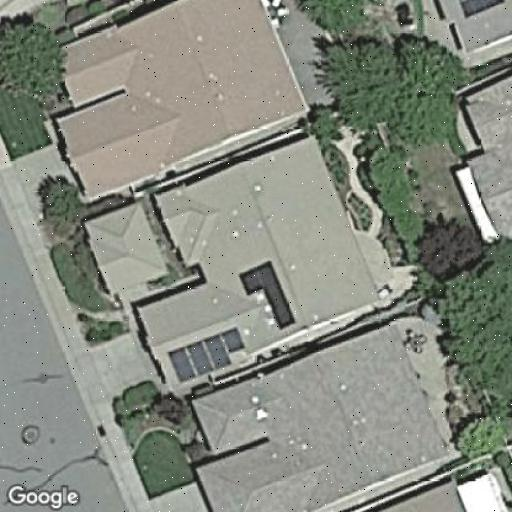solar-panel: (166, 326, 246, 384), (236, 258, 296, 330), (458, 0, 511, 18)
